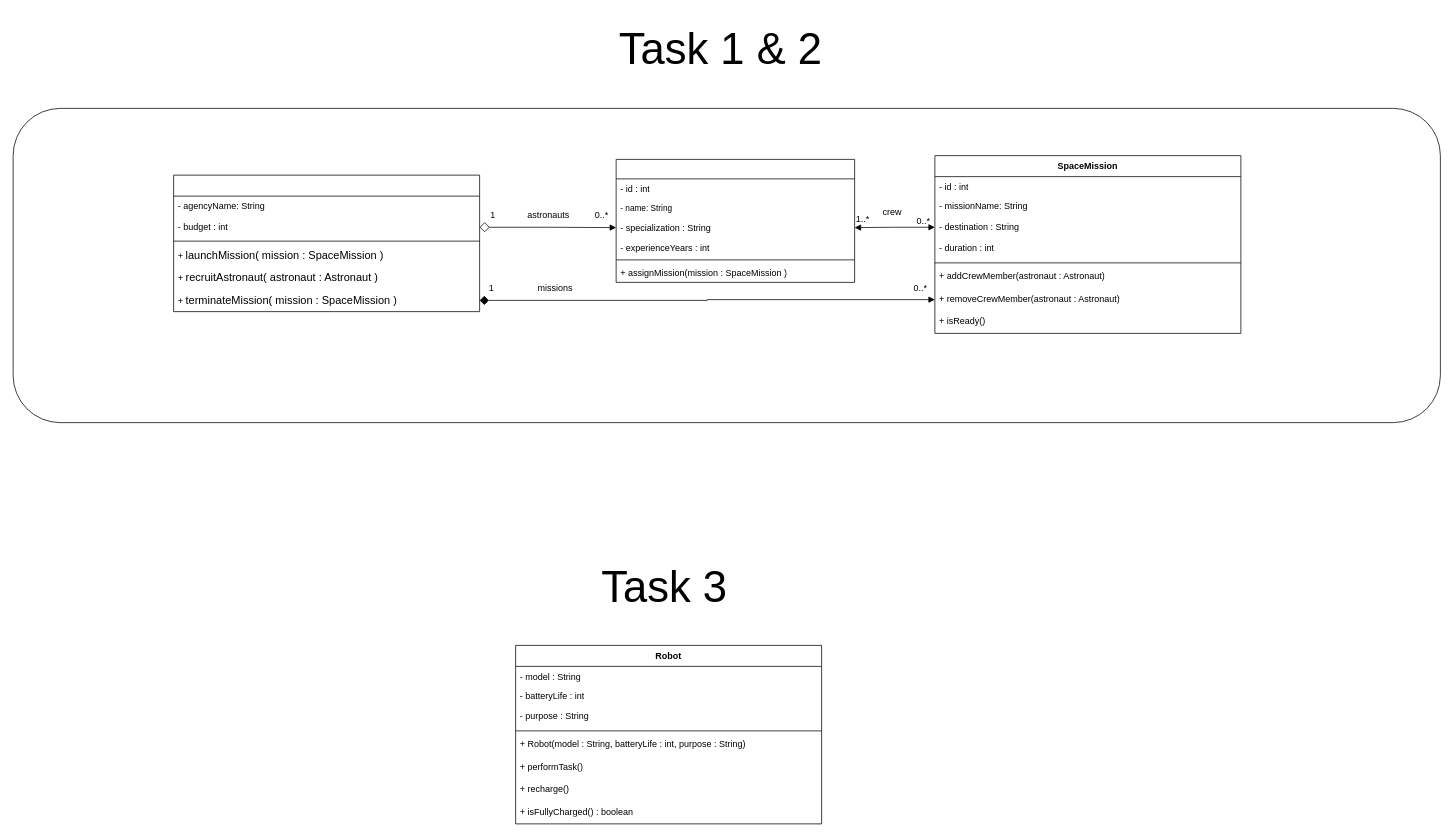
Some shapes in this 1454 by 839 pixel diagram are drawn without their labels. The shapes that lost their labels are listed below. From the top down, each one's box as (x1, y1, x2, y2) in pixels, then its label:
(615, 159, 855, 282): Astronaut
(173, 174, 480, 312): SpaceAgency
